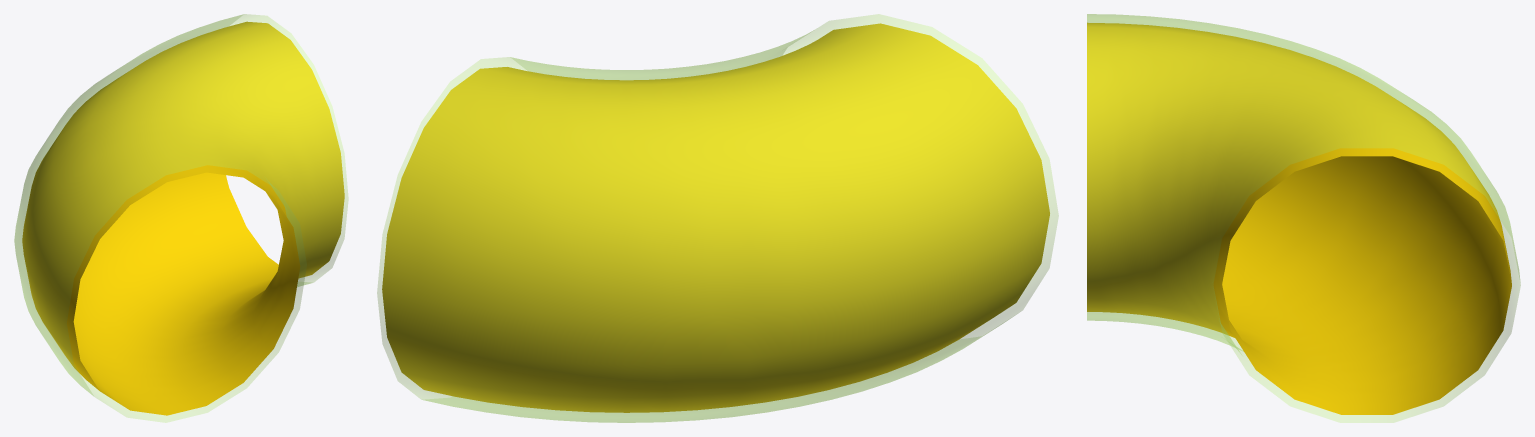
File: 冷却供-弯头.glb
The picture shows the model from 3 angles, left to right: view 1: azimuth 30°, elevation 25°; view 2: azimuth 150°, elevation 25°; view 3: azimuth 270°, elevation 25°; orthographic projection. The views are drawn at different scales.
Visible parts, largest first — view 1: 贴图, Box001; view 2: Box001, 贴图; view 3: 贴图, Box001.
Boxes of the visible parts, box(x1,y1,x2,y2) form: 贴图: box(22, 21, 344, 415); Box001: box(14, 14, 348, 422); Box001: box(377, 14, 1058, 422); 贴图: box(382, 23, 1049, 412); 贴图: box(1087, 22, 1511, 414); Box001: box(1087, 14, 1520, 422).
Bounding box in the file's own units: 4.93 × 3.45 × 4.93.
